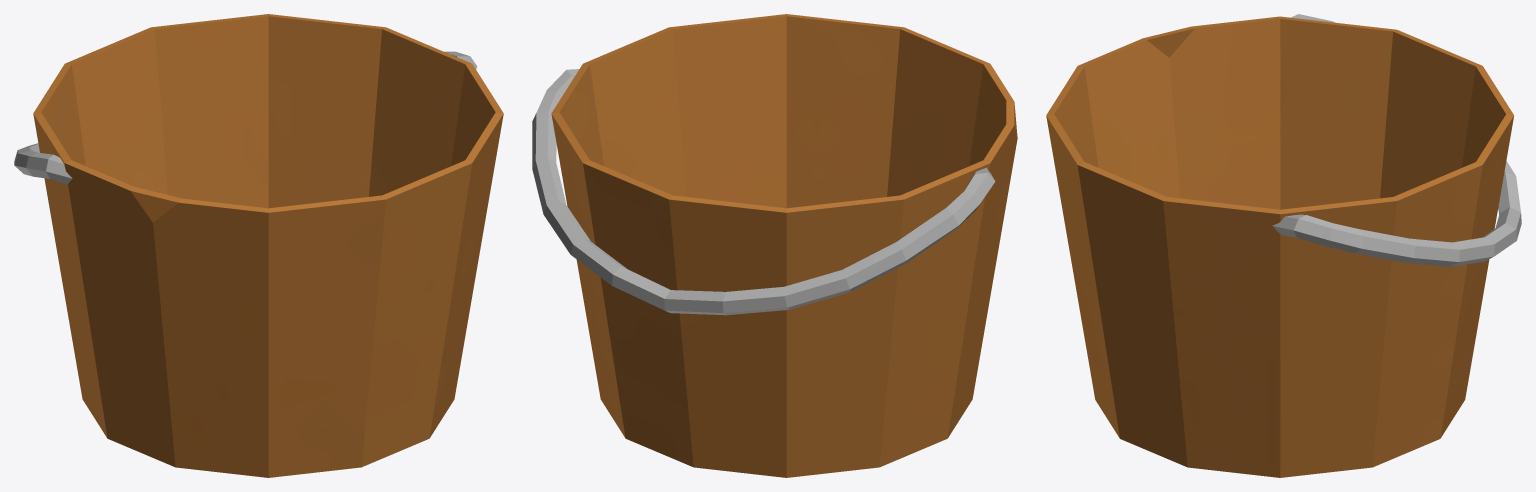
Rendered from Bucket.fbx.
The picture shows the model from 3 angles, left to right: view 1: azimuth 30°, elevation 25°; view 2: azimuth 150°, elevation 25°; view 3: azimuth 270°, elevation 25°; orthographic projection.
Visible parts, largest first — view 1: Bucket; view 2: Bucket; view 3: Bucket.
Boxes of the visible parts, <box> form: Bucket: <box>14,14,503,477</box>; Bucket: <box>532,14,1017,477</box>; Bucket: <box>1046,14,1521,477</box>.
Size of the model in its own units: 61.53 by 38.72 by 58.45.
